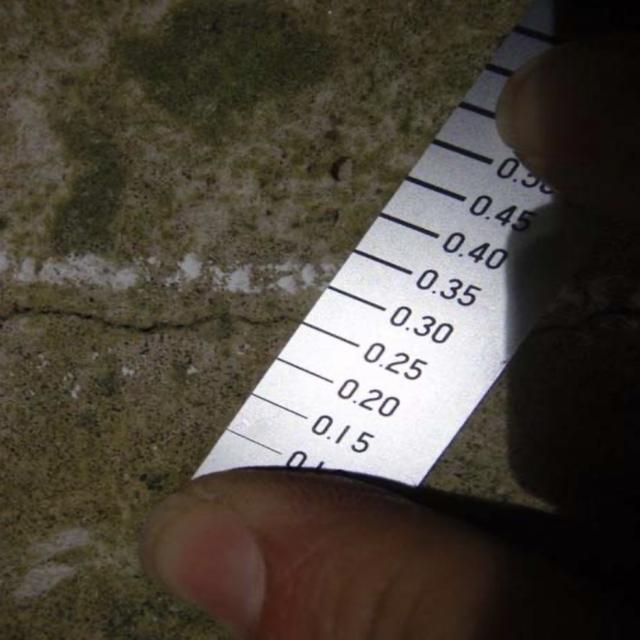crack: (4, 283, 300, 347)
